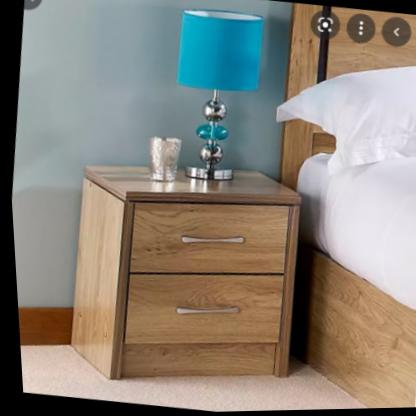Lamp: (153, 0, 281, 192)
Nightstand: (49, 145, 316, 405)
